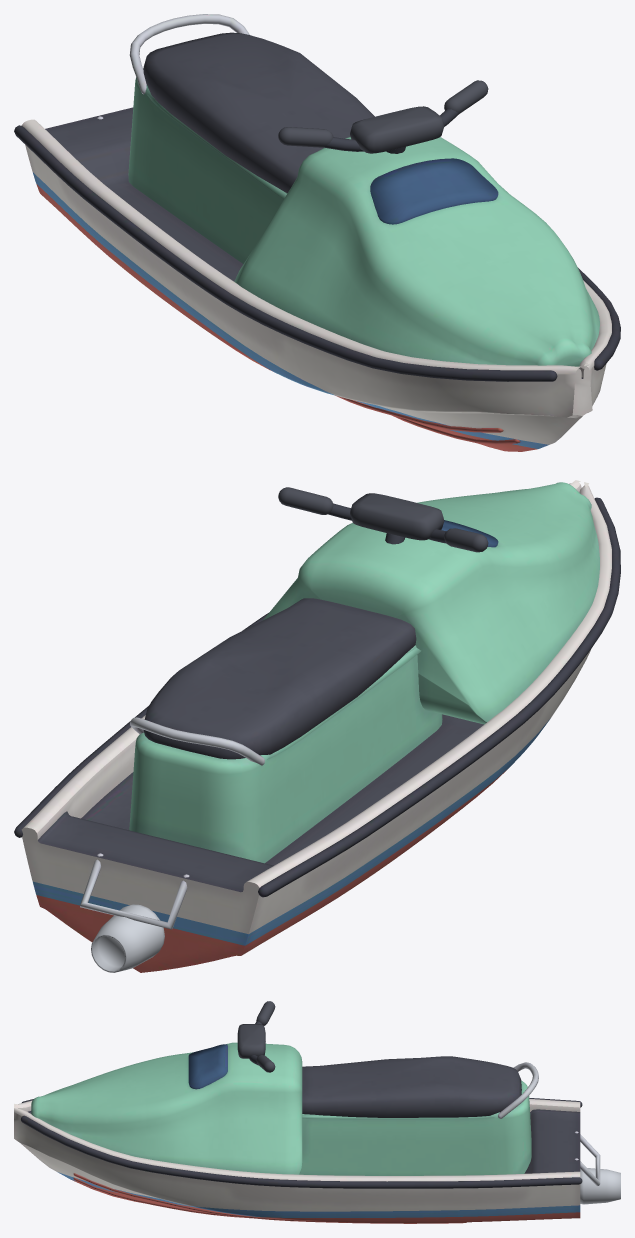
Rendered from jet-ski.glb.
The picture shows the model from 3 angles, top to bottom: view 1: azimuth 30°, elevation 25°; view 2: azimuth 150°, elevation 25°; view 3: azimuth 270°, elevation 25°; orthographic projection. The views are drawn at different scales.
Parts seen in each view (by area): view 1: jet-ski_body, jet-ski_handlebar; view 2: jet-ski_body, jet-ski_handlebar, jet-ski_jet_nozzle; view 3: jet-ski_body, jet-ski_handlebar, jet-ski_jet_nozzle.
Boxes of the visible parts, left/top/right/bottom form: jet-ski_body: left=14, top=14, right=620, bottom=451; jet-ski_handlebar: left=278, top=80, right=488, bottom=153; jet-ski_body: left=14, top=480, right=620, bottom=972; jet-ski_handlebar: left=278, top=487, right=488, bottom=552; jet-ski_jet_nozzle: left=91, top=904, right=164, bottom=972; jet-ski_body: left=14, top=1042, right=600, bottom=1223; jet-ski_handlebar: left=237, top=1001, right=275, bottom=1072; jet-ski_jet_nozzle: left=580, top=1168, right=620, bottom=1204.
Bounding box in the file's own units: 1.26 × 1.16 × 3.43.
Materials: 4 (1 with a texture image).
